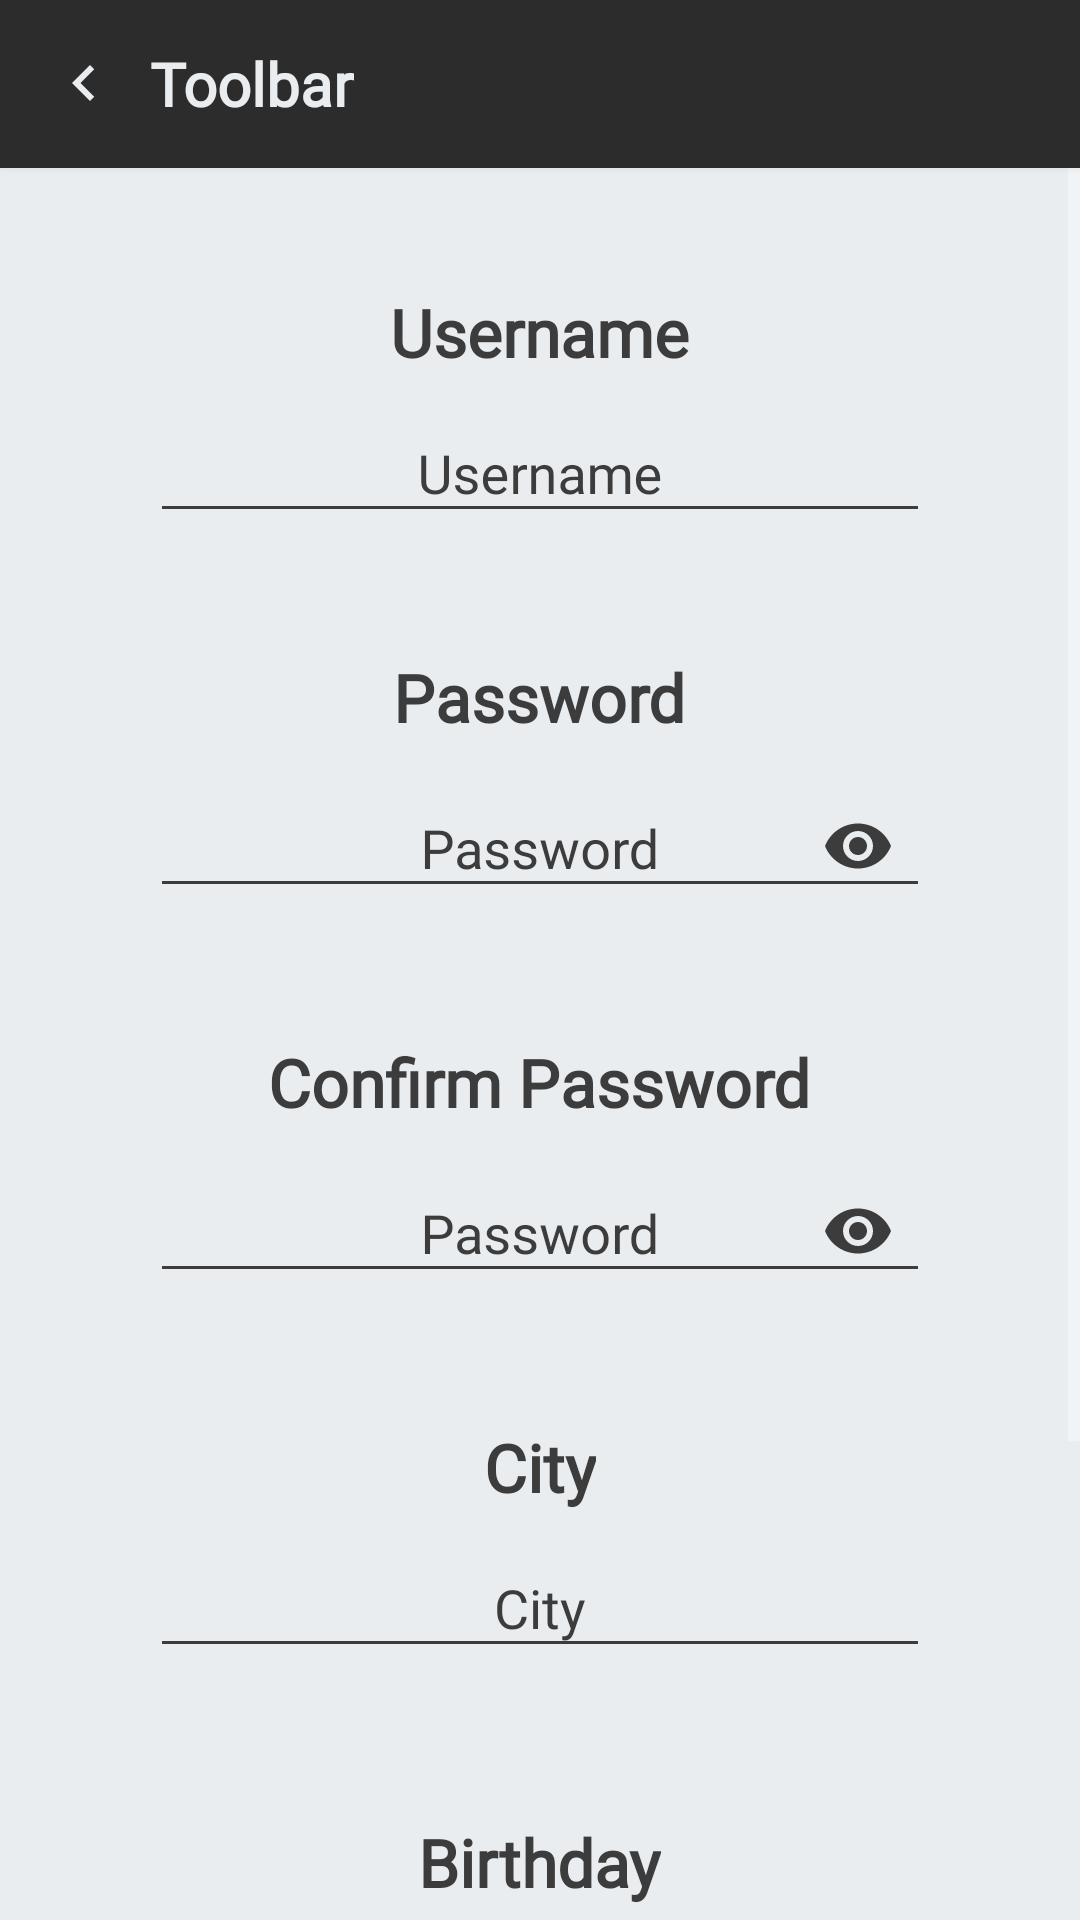

Icon bounding boxes for this 1080px x 1920px phone screenshot, format (x1, y1, x2, y2):
chevron left: (72, 65, 94, 101)
